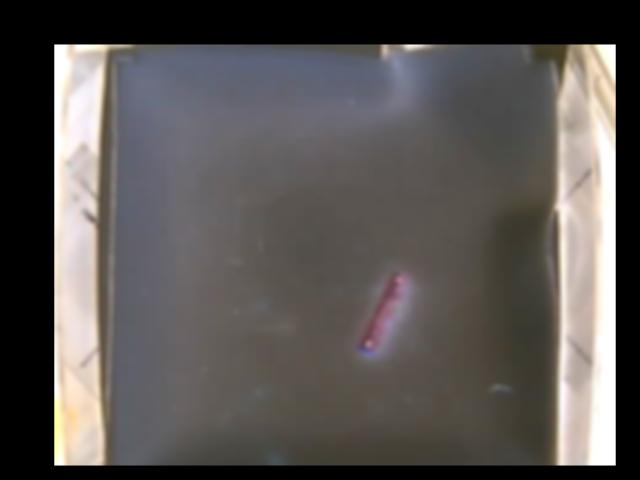Battery: (351, 270, 410, 357)
